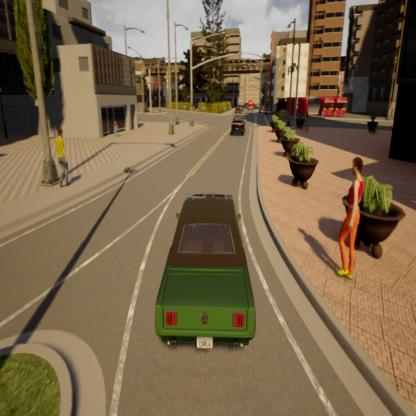Cars: (155, 188, 264, 361), (231, 111, 248, 140), (235, 106, 243, 115)
Pedestrian: (332, 149, 369, 293), (50, 123, 75, 195), (112, 119, 122, 141)
